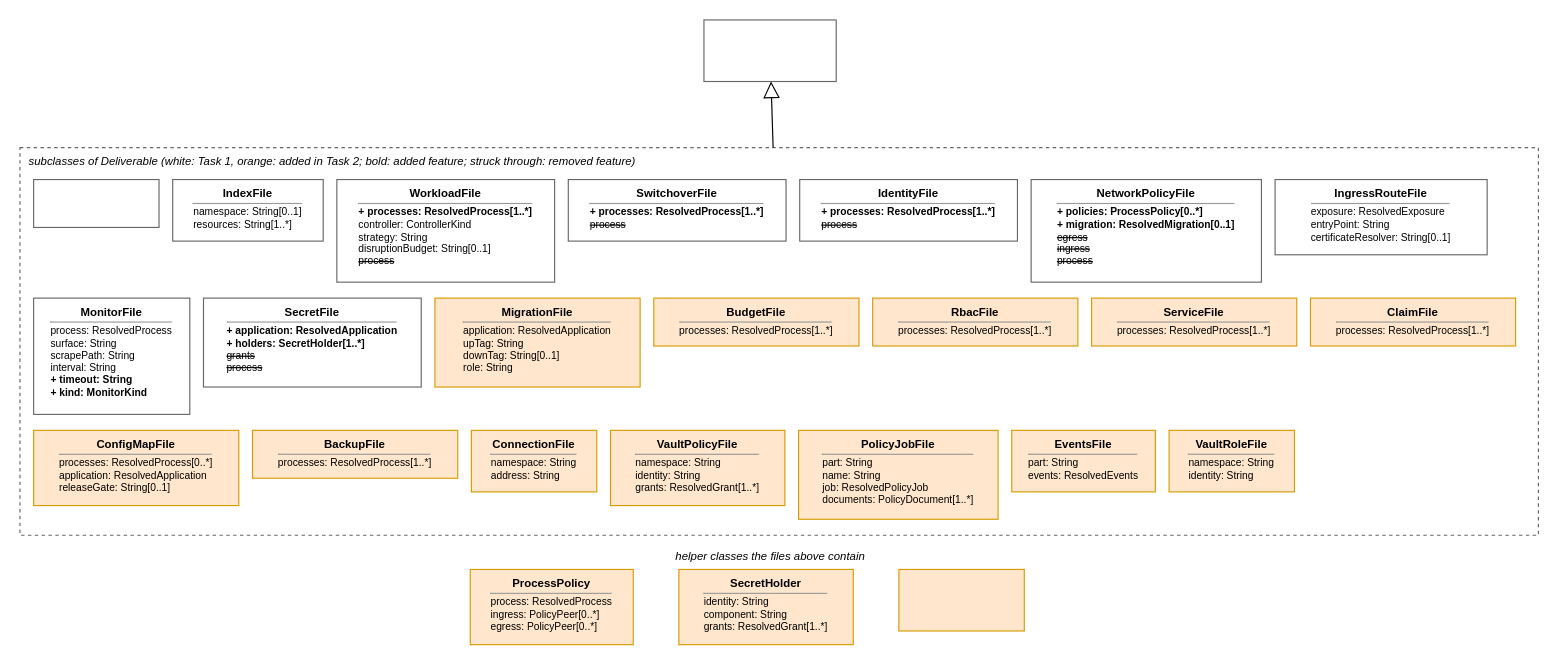
This 1558x665 diagram has some shape labels left out. Each missing label, with the box of its shape:
Deliverable path: String adapter: AdapterName: (703, 19, 836, 82)
NamespaceFile namespace: String: (32, 178, 159, 227)
PolicyDocument file: String json: String: (898, 568, 1024, 631)
